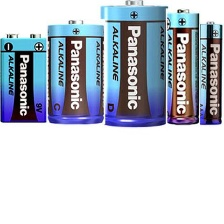battery: (97, 0, 170, 129), (44, 16, 106, 125), (0, 30, 50, 123), (165, 6, 201, 125), (198, 18, 222, 128)
